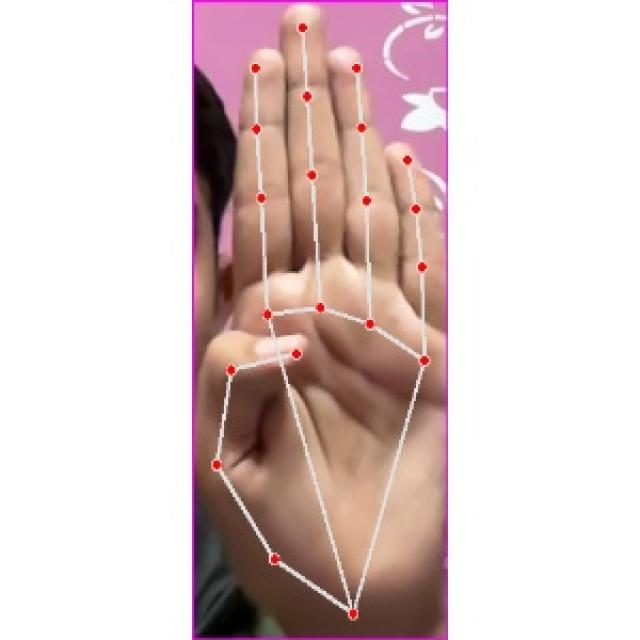B: (194, 2, 441, 640)
